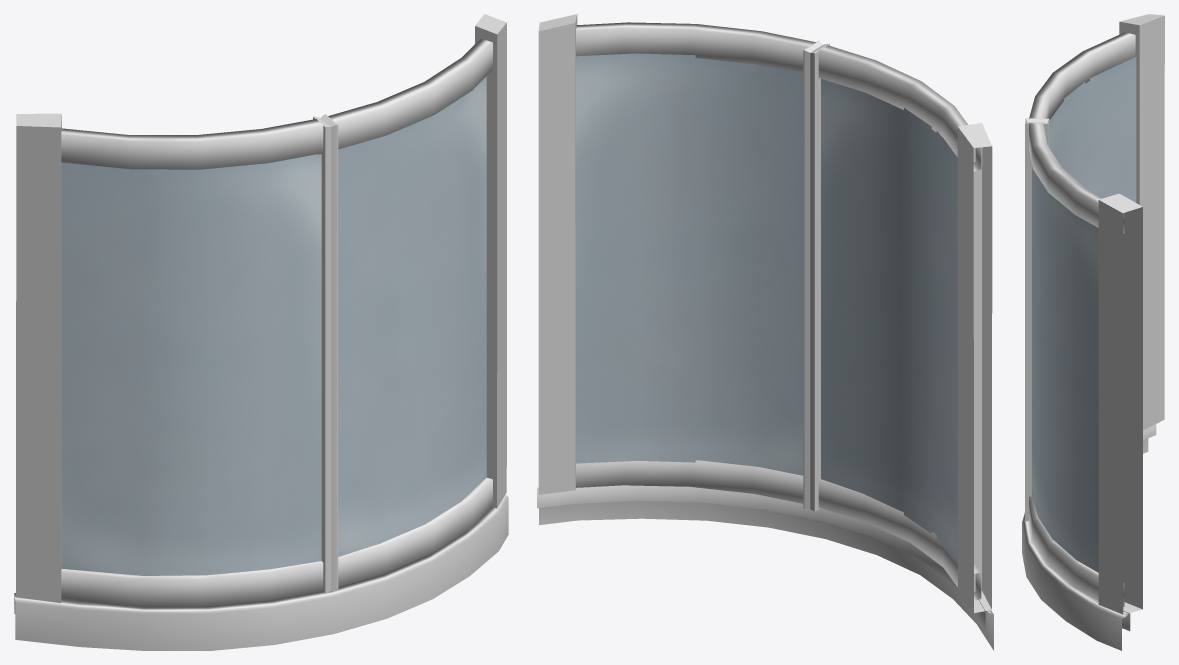
File: Shover_Cabin.fbx
3 views of the same model, side by side, from view 1: azimuth 30°, elevation 25°; view 2: azimuth 150°, elevation 25°; view 3: azimuth 270°, elevation 25° (orthographic). The views are drawn at different scales.
Parts seen in each view (by area): view 1: Shover_Cabin; view 2: Shover_Cabin; view 3: Shover_Cabin.
Boxes of the visible parts, bbox=[...] form: Shover_Cabin: bbox=[14, 14, 508, 650]; Shover_Cabin: bbox=[537, 14, 993, 650]; Shover_Cabin: bbox=[1022, 14, 1164, 650].
Bounding box in the file's own units: 203 × 211 × 61.48.
